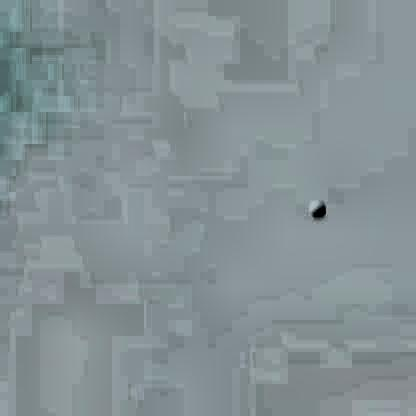golfball: (305, 193, 323, 215)
